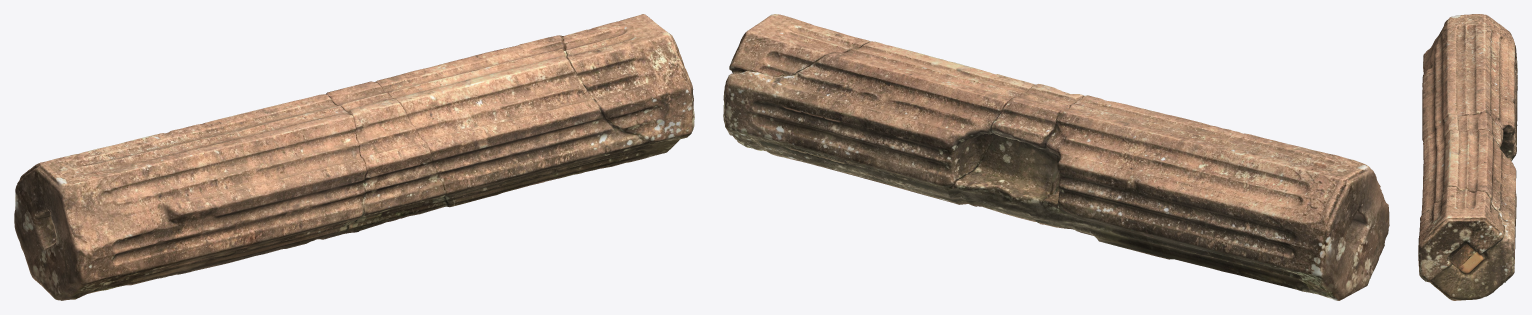
File: 29_MysonSanctuaryB_Trucot_final.glb
3 views of the same model, side by side, from view 1: azimuth 30°, elevation 25°; view 2: azimuth 150°, elevation 25°; view 3: azimuth 270°, elevation 25° (orthographic). The views are drawn at different scales.
Bounding box in the file's own units: 2.54 × 0.5024 × 0.5134.
Materials: 1 (1 with a texture image).
